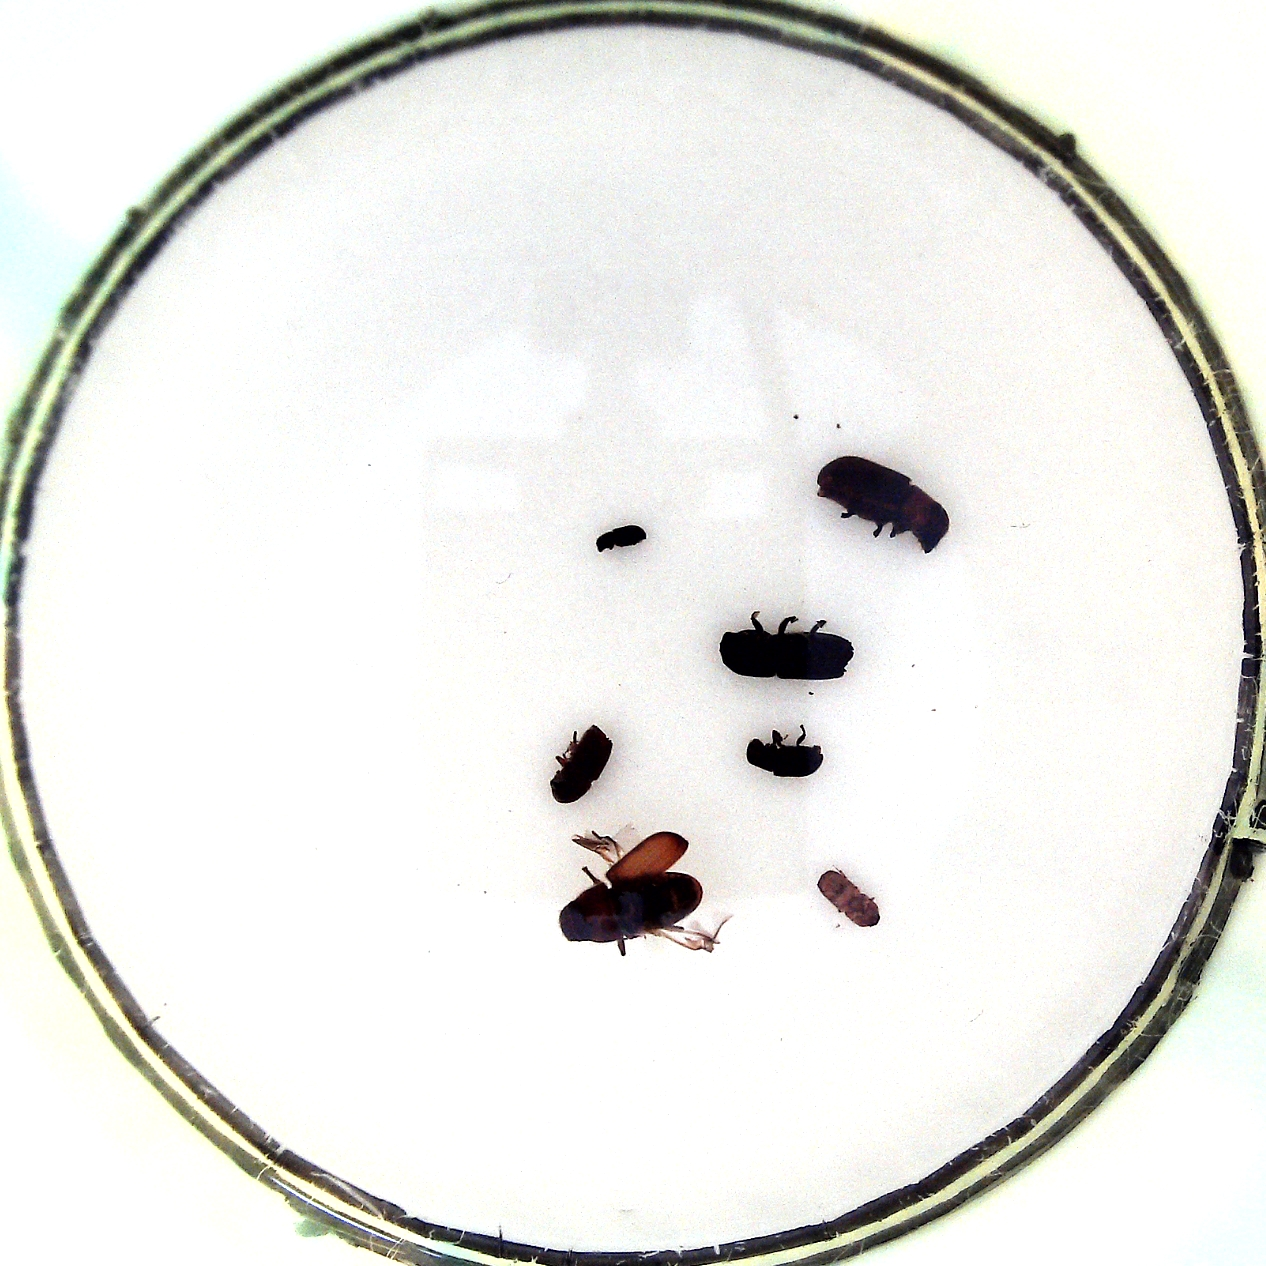Boerner: (716, 606, 854, 687)
Leconte: (555, 828, 730, 959), (809, 454, 950, 562)
Linnaeus: (540, 726, 612, 803)
acuminatus: (807, 870, 885, 932)
armandi: (744, 721, 822, 783)
coleoptera: (592, 519, 647, 563)
